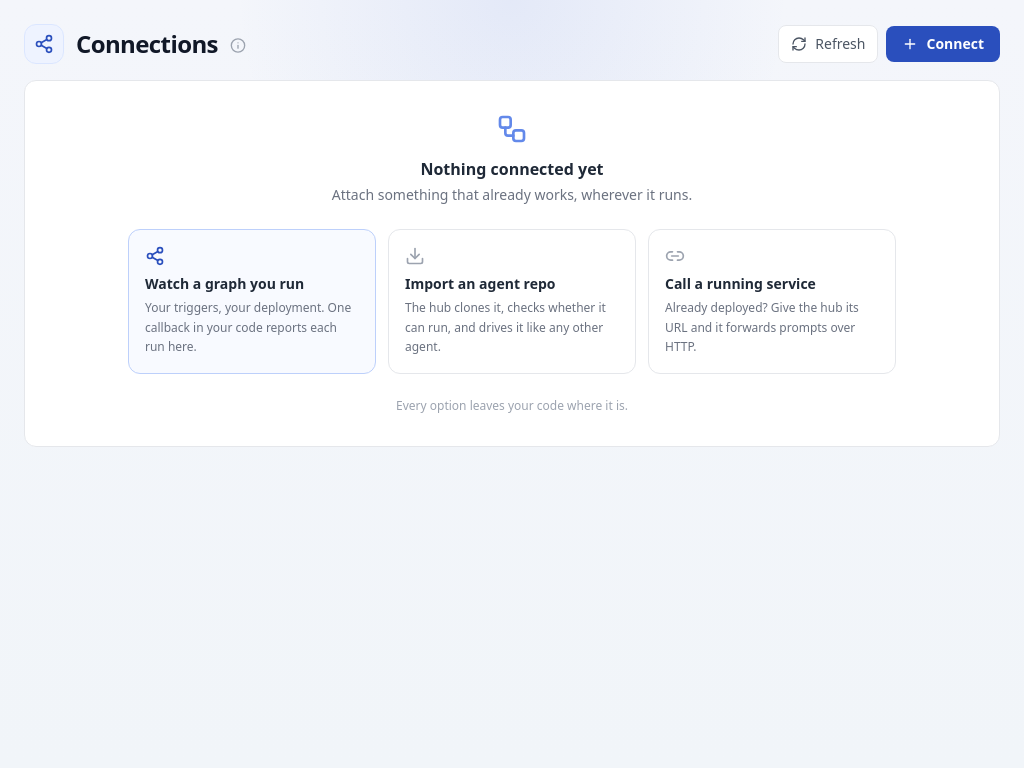
Scenario: Connections — the empty state › starts the observe path from the first tile
What coordinates should you click on to do the following:
click the text "Watch a graph you run"
I would click on:
 (225, 284)
Its box is [145,274,304,293].
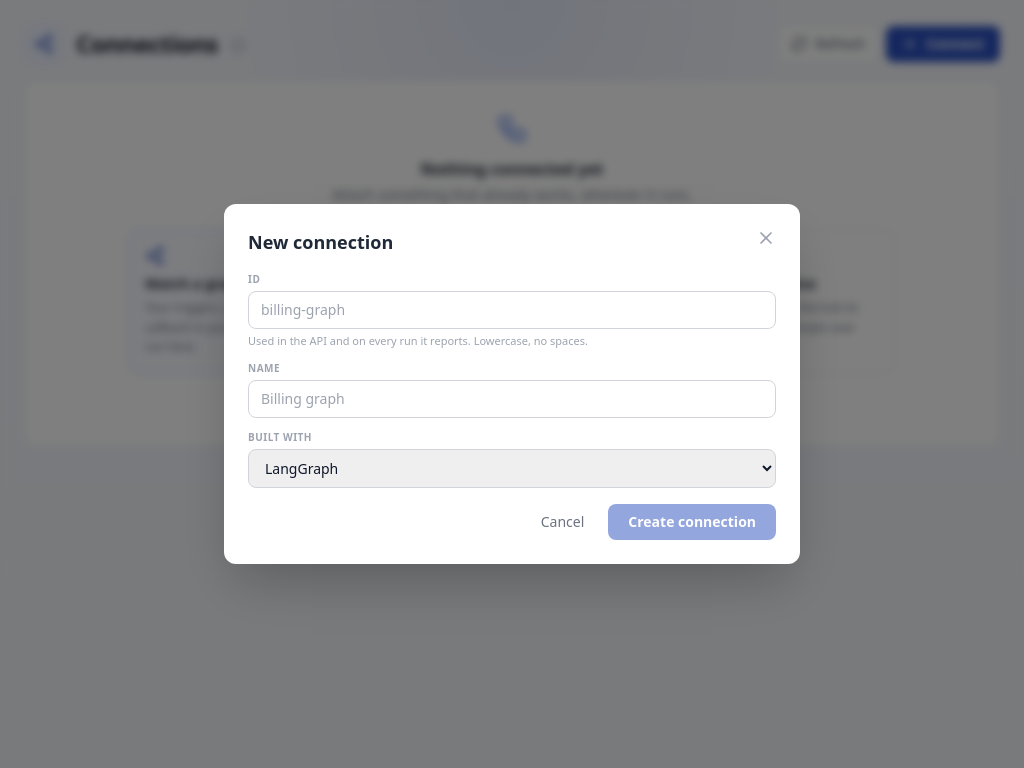
Now the heading "New connection" is shown, box [248,228,393,256]
